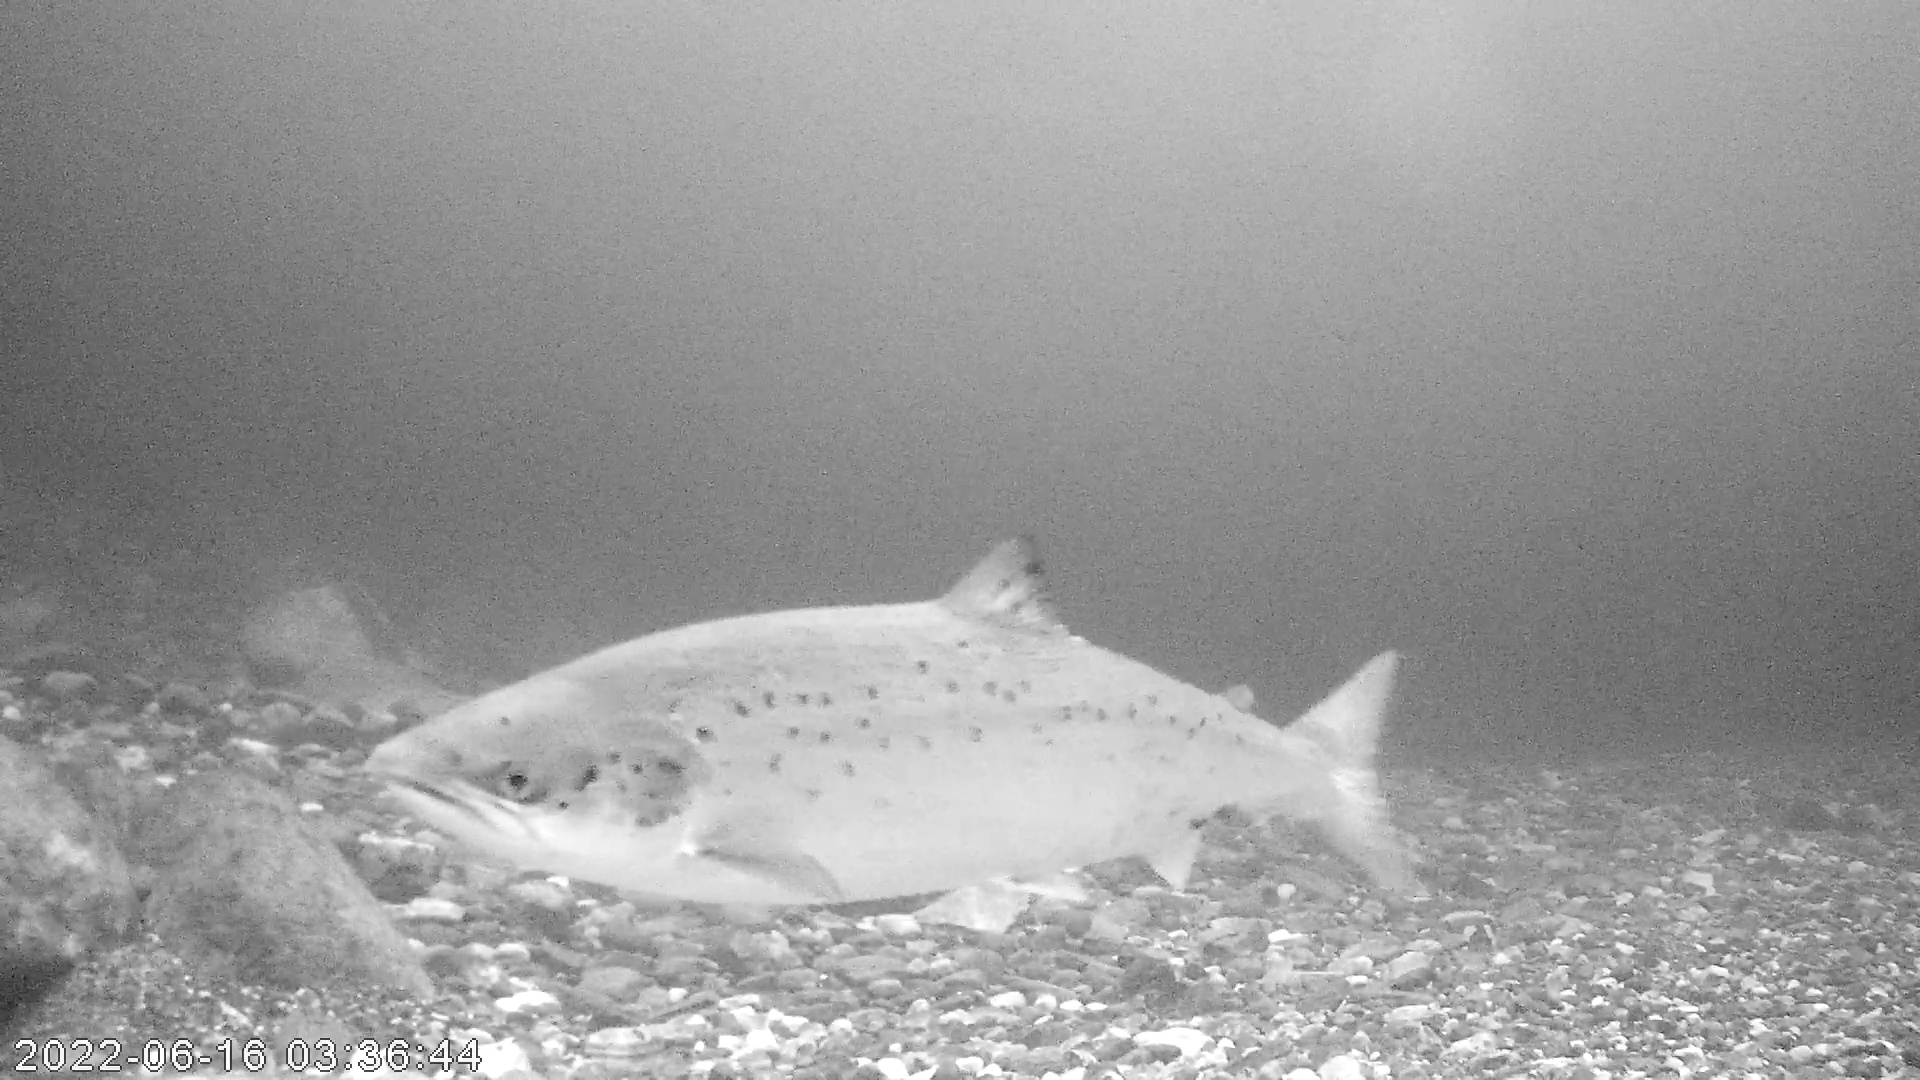salmon: (368, 531, 1418, 910)
